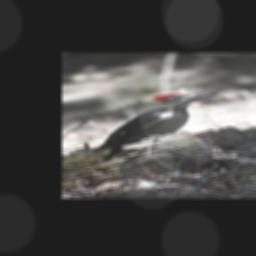Woodpecker: (92, 92, 216, 159)
